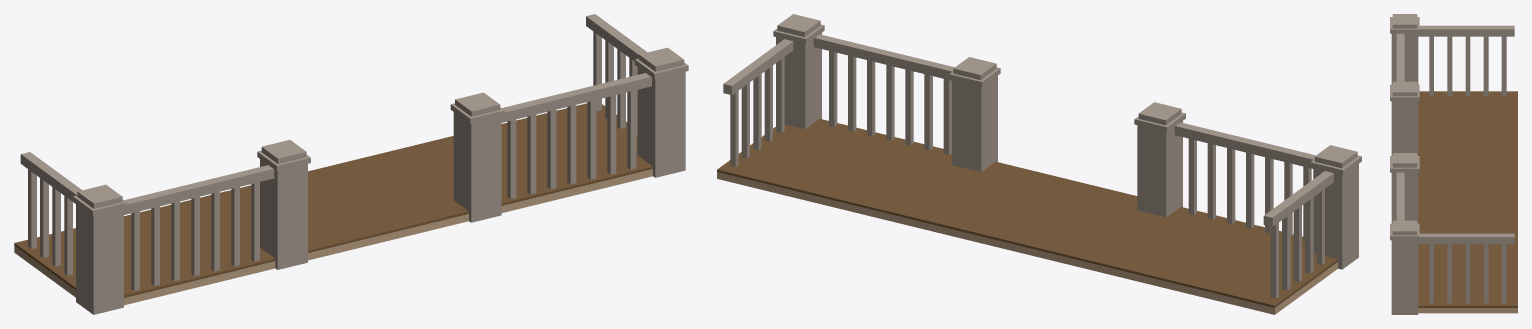
The model's file is Terrace3_C2.fbx.
3 views of the same model, side by side, from view 1: azimuth 30°, elevation 25°; view 2: azimuth 150°, elevation 25°; view 3: azimuth 270°, elevation 25° (orthographic). The views are drawn at different scales.
Parts seen in each view (by area): view 1: Terrace3_C2; view 2: Terrace3_C2; view 3: Terrace3_C2.
Part boxes in pixels (box(x1,y1,x2,y2)): Terrace3_C2: box(14, 14, 688, 314); Terrace3_C2: box(717, 14, 1361, 314); Terrace3_C2: box(1390, 14, 1517, 314).
Size of the model in its own units: 6.44 by 1.14 by 1.59.
